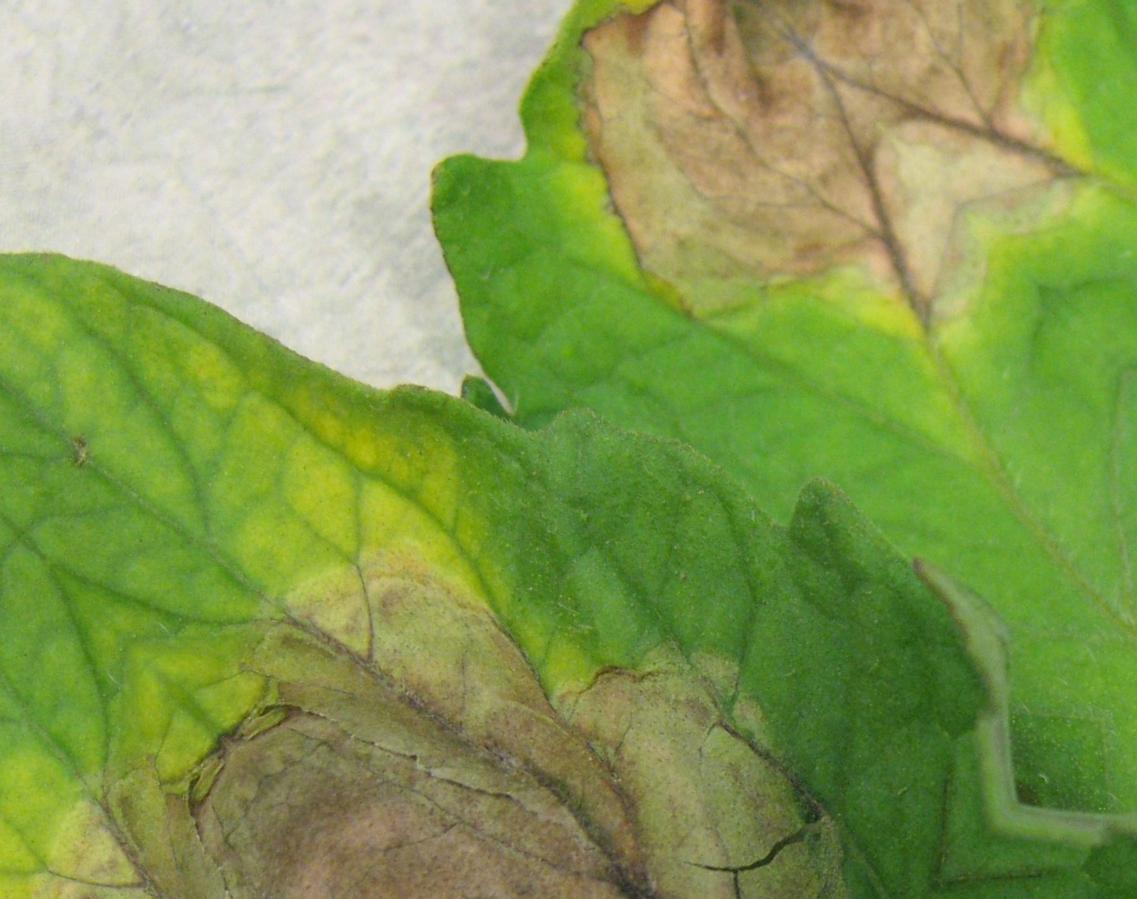Tomato leaf late blight: (0, 0, 1086, 899), (201, 0, 1137, 821)
